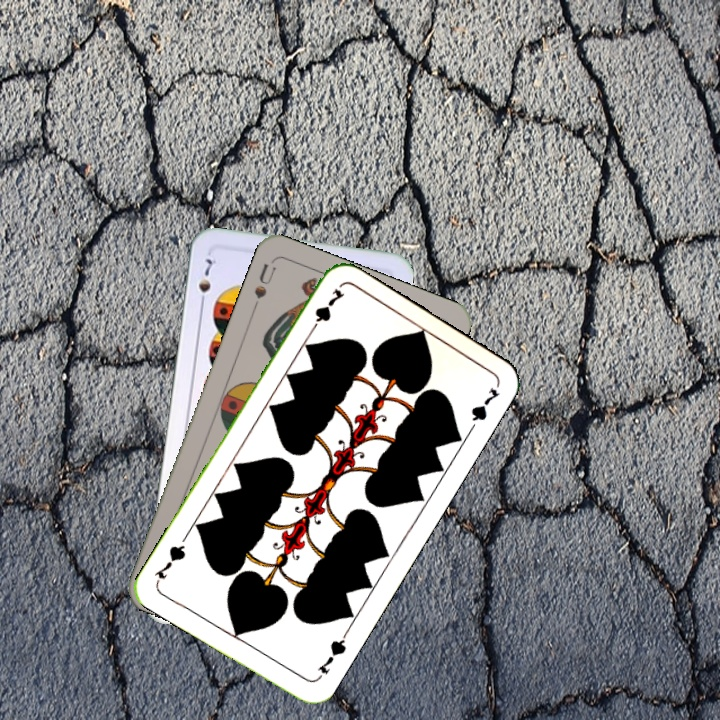G7: (304, 284, 347, 338), (313, 629, 350, 682)
S7: (194, 253, 219, 310)
SU: (248, 258, 279, 315)
